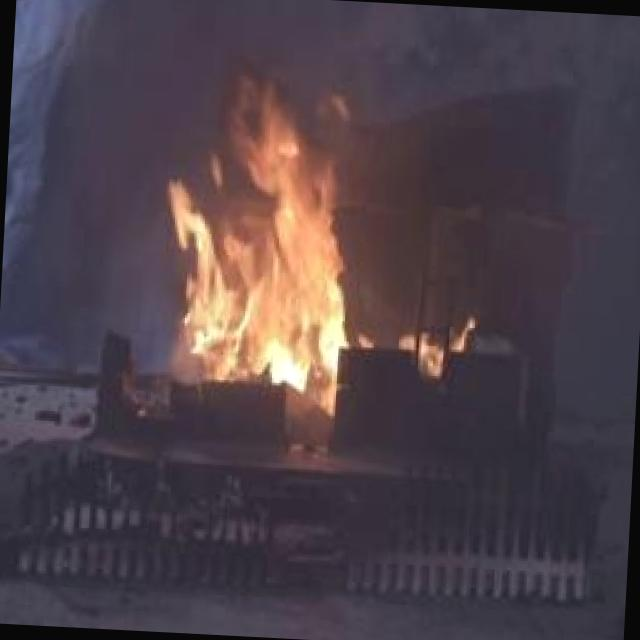fire: (120, 72, 398, 410)
